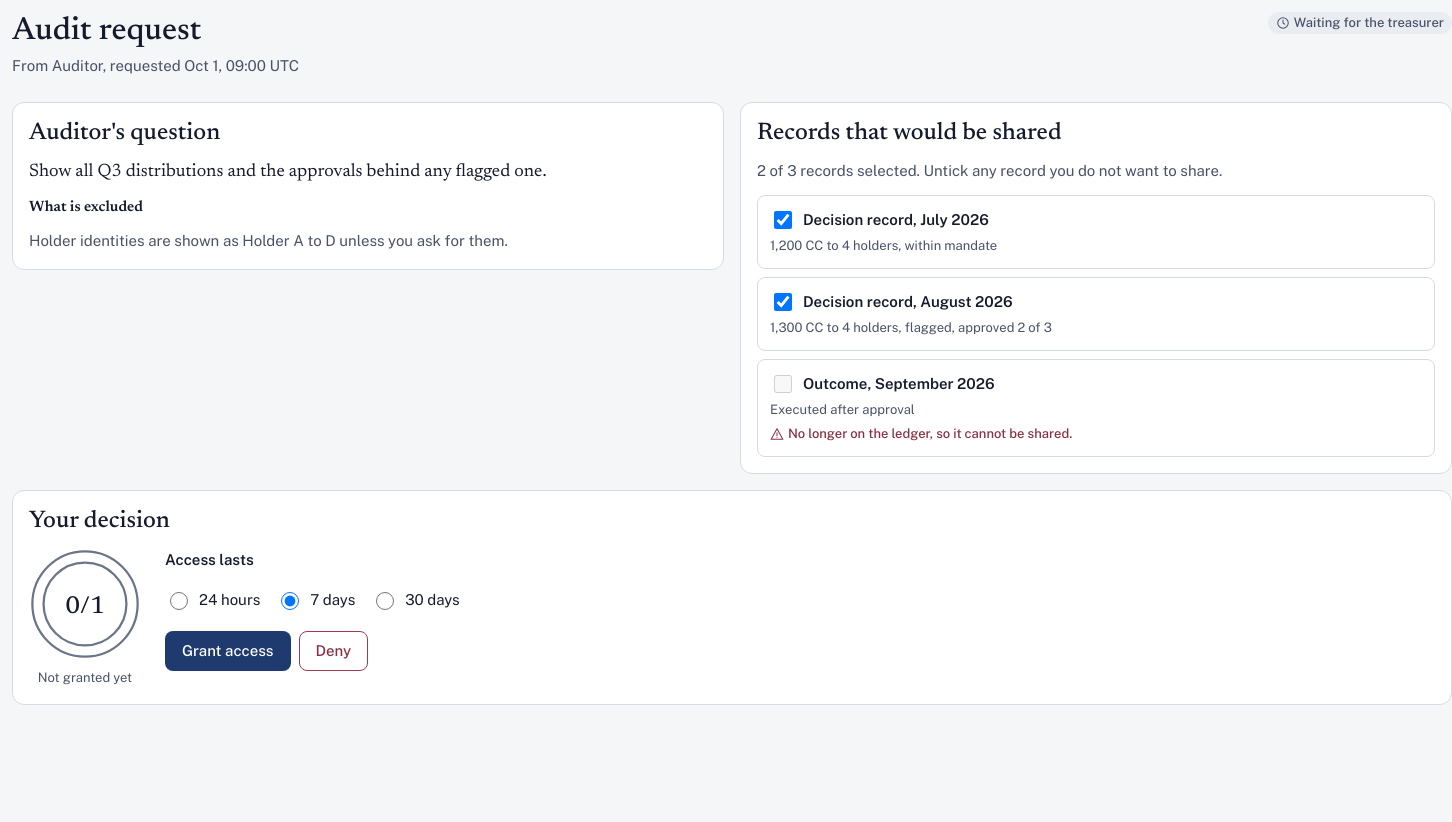
treasurer review page › does not offer Grant access while no record is selected
Expected: the element "Auditor's question" is shown, left=12, top=102, right=724, bottom=270
Click the checkbox labelled "Decision record, July 2026": click(783, 220) left=774, top=211, right=792, bottom=229
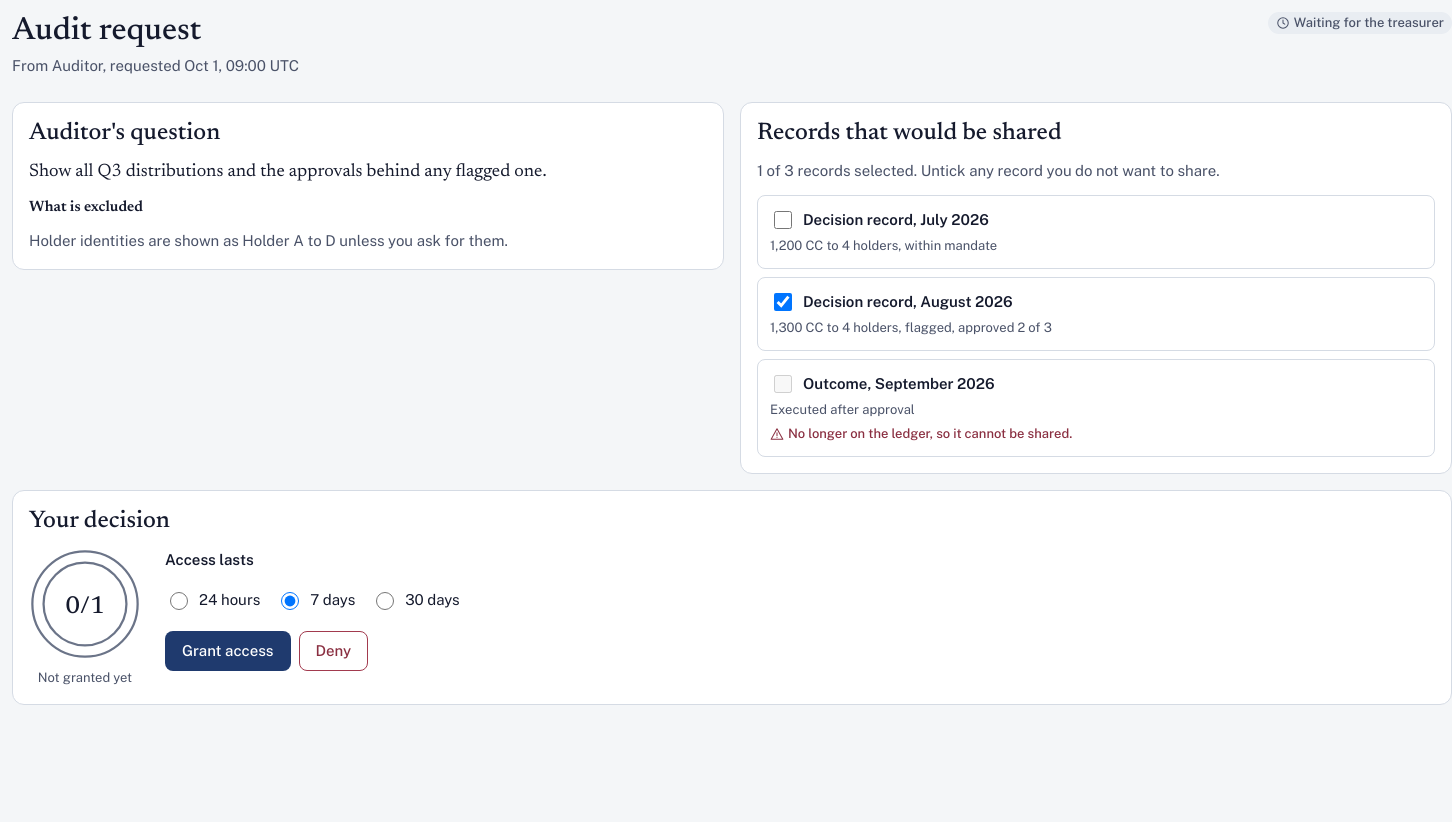
Click the checkbox labelled "Decision record, August 2026": click(783, 302) left=774, top=293, right=792, bottom=311
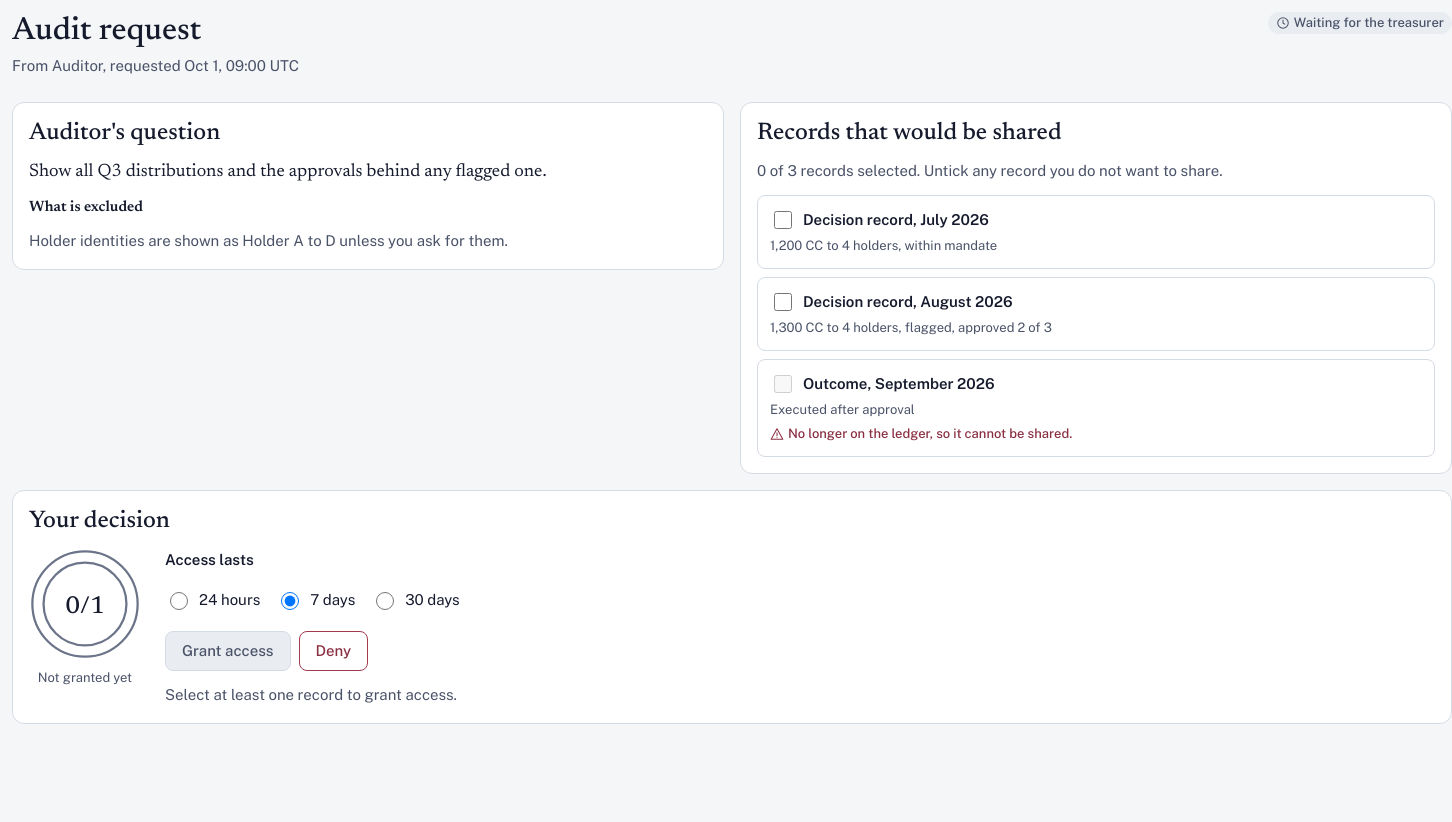
Result: the button "Grant access" is disabled at left=165, top=631, right=290, bottom=671
